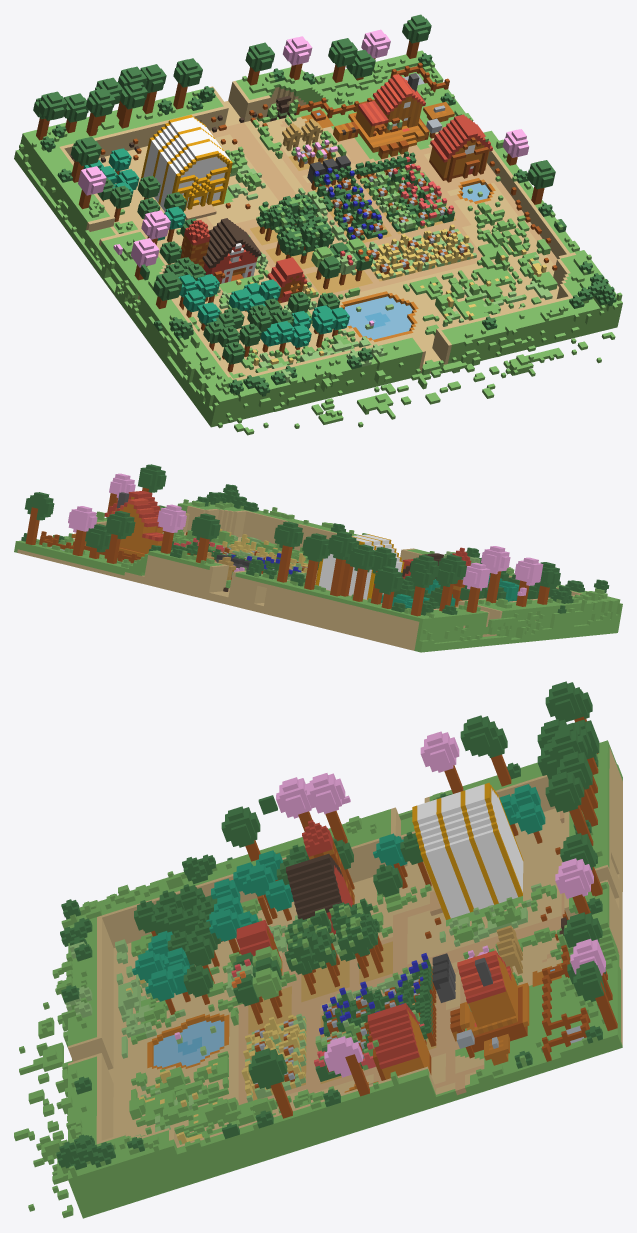
File: stario.gltf
The picture shows the model from 3 angles, top to bottom: view 1: azimuth 30°, elevation 25°; view 2: azimuth 150°, elevation 25°; view 3: azimuth 270°, elevation 25°; orthographic projection. The views are drawn at different scales.
Parts seen in each view (by area): view 1: Mesh_0; view 2: Mesh_0; view 3: Mesh_0.
Boxes of the visible parts, x1,y1,x2,y2 form: Mesh_0: (14, 14, 622, 435); Mesh_0: (14, 464, 622, 652); Mesh_0: (14, 681, 622, 1218).
Bounding box in the file's own units: 126 × 65.32 × 119.
1 material, 1 textured.
